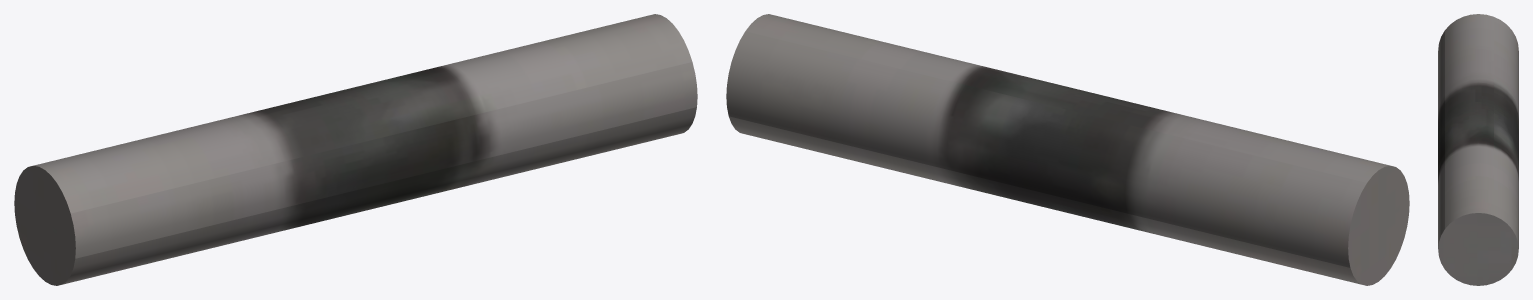
Rendered from housing__caster_axle_2.glb.
3 views of the same model, side by side, from view 1: azimuth 30°, elevation 25°; view 2: azimuth 150°, elevation 25°; view 3: azimuth 270°, elevation 25° (orthographic). The views are drawn at different scales.
Visible parts, largest first — view 1: geometry_0; view 2: geometry_0; view 3: geometry_0.
Boxes of the visible parts, <box> form: geometry_0: <box>14,14,697,285</box>; geometry_0: <box>726,14,1409,285</box>; geometry_0: <box>1438,14,1518,285</box>.
Size of the model in its own units: 0.07 by 0.012 by 0.012.
1 material, 1 textured.
